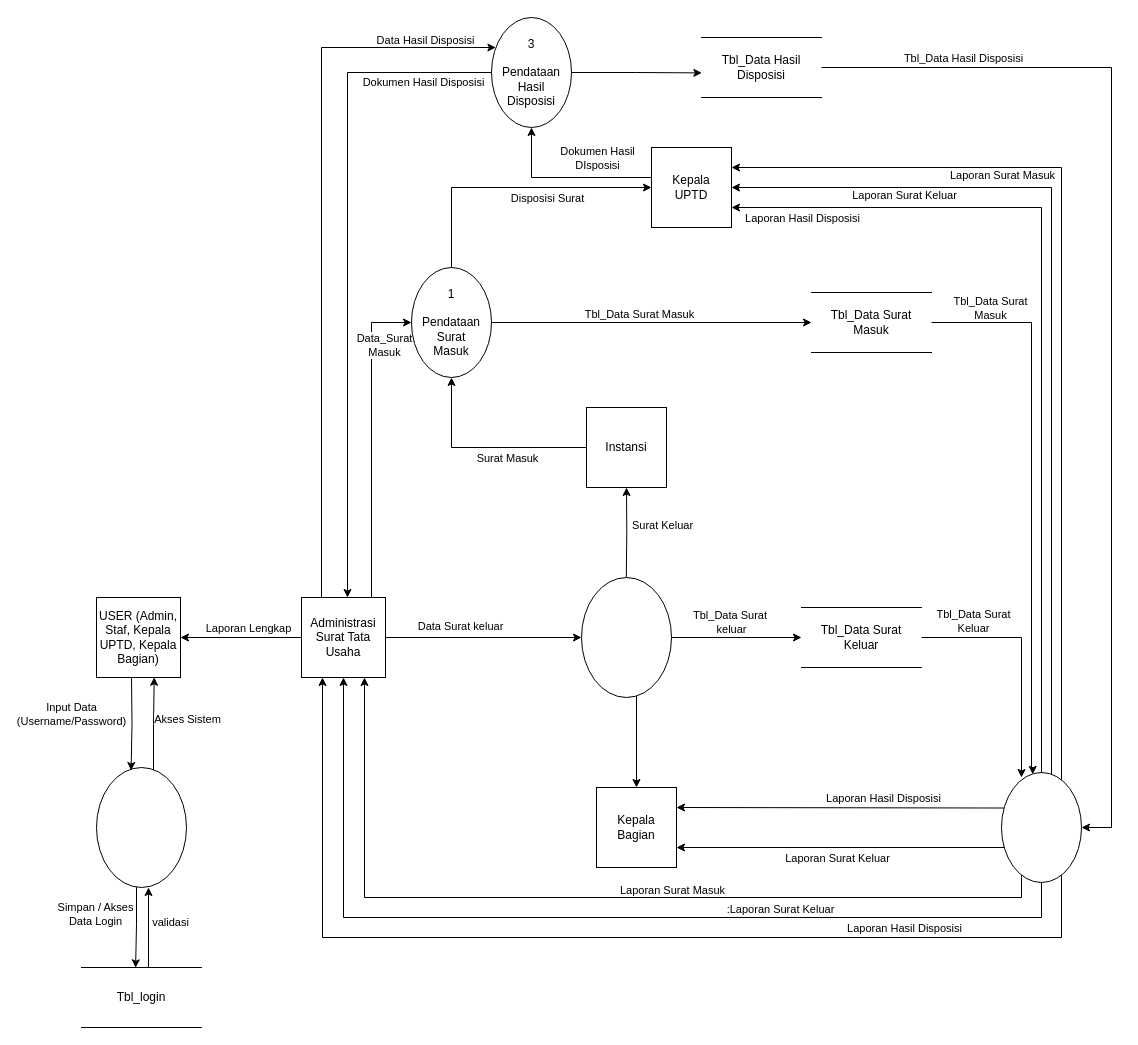
Image size: 1138x1045. Some labels were removed from this diagram. The shapes that lost their labels are listed below. From the top down, each one's box as (x1, y1, x2, y2) in pixels, then its label:
(580, 576, 672, 698): 2 Pendataan Surat Keluar
(96, 766, 186, 888): 0 Login / Register
(1000, 772, 1082, 882): 4 Pembuatan Laporan
